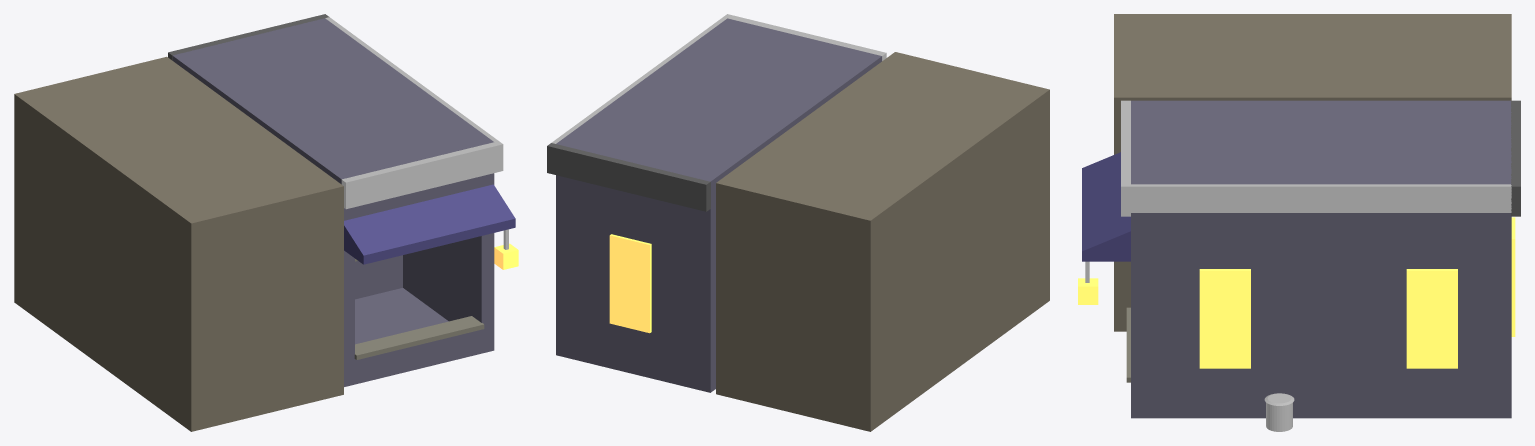
3 views of the same model, side by side, from view 1: azimuth 30°, elevation 25°; view 2: azimuth 150°, elevation 25°; view 3: azimuth 270°, elevation 25° (orthographic). The views are drawn at different scales.
Visible parts, largest first — view 1: Cube.028, Cube.001, Cube.002, Cube.011, Cube, Cube.010, Cube.012, Cube.007; view 2: Cube.028, Cube.001, Cube.012, Cube.013, Cube.010, Cube.011; view 3: Cube.001, Cube.028, Cube.010, Cube.008, Cube.009, Cube.002, Cube.011, Cube.012, Cylinder, Cube.013, Cube.007.
Part boxes in pixels (x1=…): Cube.028: x1=14, y1=56, x2=343, y2=431; Cube.001: x1=172, y1=18, x2=494, y2=386; Cube.002: x1=344, y1=184, x2=515, y2=264; Cube.011: x1=341, y1=141, x2=503, y2=209; Cube: x1=354, y1=316, x2=484, y2=359; Cube.010: x1=325, y1=17, x2=498, y2=141; Cube.012: x1=168, y1=14, x2=329, y2=60; Cube.007: x1=494, y1=243, x2=518, y2=269; Cube.028: x1=716, y1=52, x2=1049, y2=431; Cube.001: x1=556, y1=18, x2=881, y2=392; Cube.012: x1=547, y1=143, x2=710, y2=211; Cube.013: x1=609, y1=234, x2=651, y2=333; Cube.010: x1=551, y1=17, x2=726, y2=143; Cube.011: x1=723, y1=14, x2=886, y2=60; Cube.001: x1=1131, y1=100, x2=1511, y2=418; Cube.028: x1=1114, y1=14, x2=1511, y2=331; Cube.010: x1=1131, y1=184, x2=1511, y2=212; Cube.008: x1=1199, y1=269, x2=1250, y2=368; Cube.009: x1=1406, y1=269, x2=1457, y2=368; Cube.002: x1=1082, y1=152, x2=1130, y2=261; Cube.011: x1=1121, y1=100, x2=1130, y2=216; Cube.012: x1=1511, y1=100, x2=1520, y2=216; Cylinder: x1=1264, y1=393, x2=1294, y2=431; Cube.013: x1=1511, y1=217, x2=1515, y2=336; Cube.007: x1=1078, y1=278, x2=1098, y2=304.
Size of the model in its own units: 13.71 by 8.1 by 13.88.
